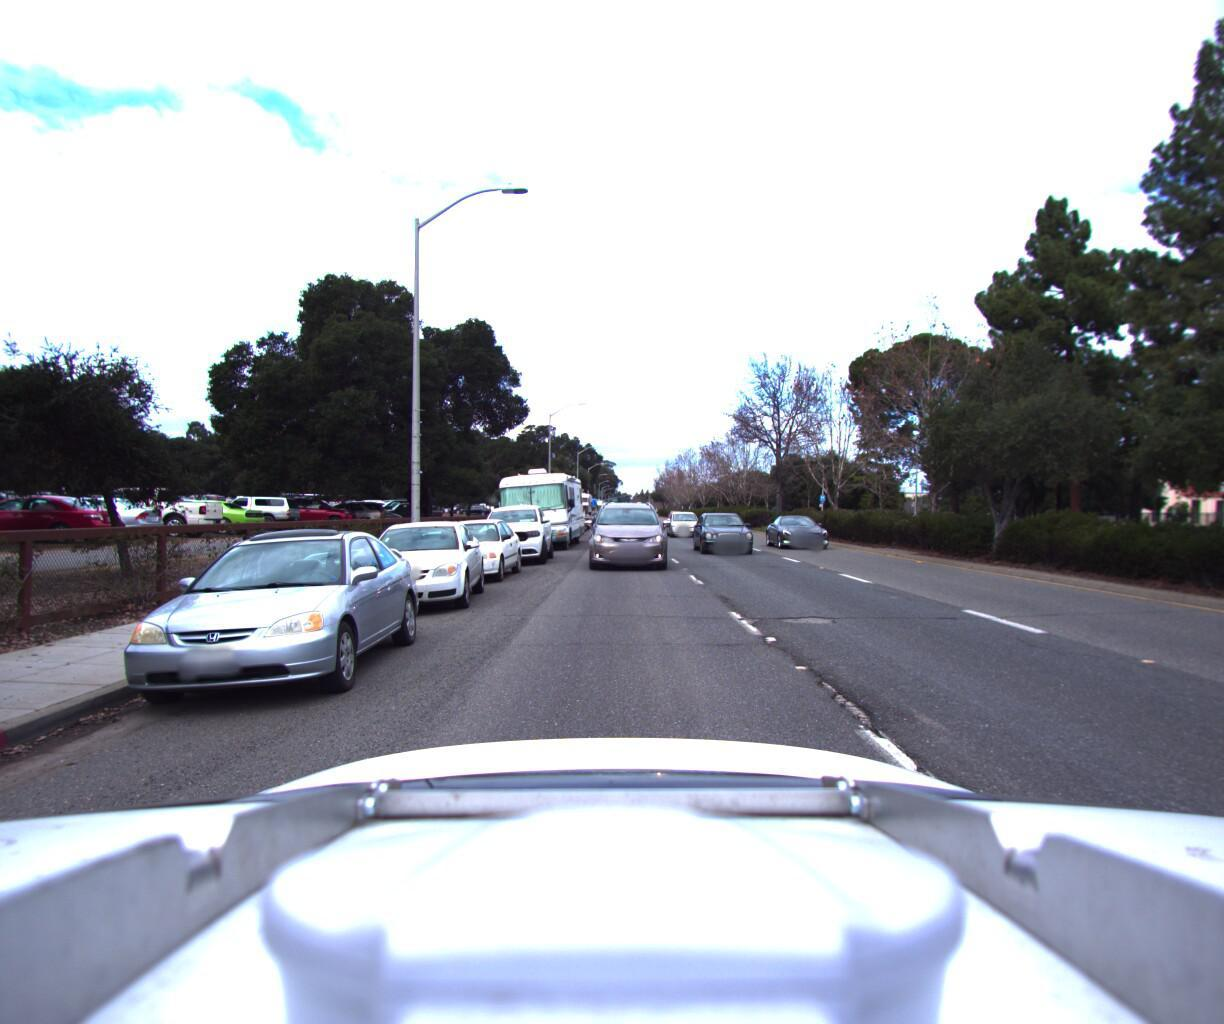car: (88, 518, 425, 725), (336, 513, 488, 615), (410, 513, 524, 584), (589, 494, 668, 574), (472, 495, 549, 565), (693, 507, 766, 556), (767, 505, 843, 549), (263, 492, 355, 527), (301, 495, 384, 527), (372, 496, 440, 523), (667, 509, 708, 539)
other_vehicle: (482, 456, 582, 551), (549, 483, 590, 527)
